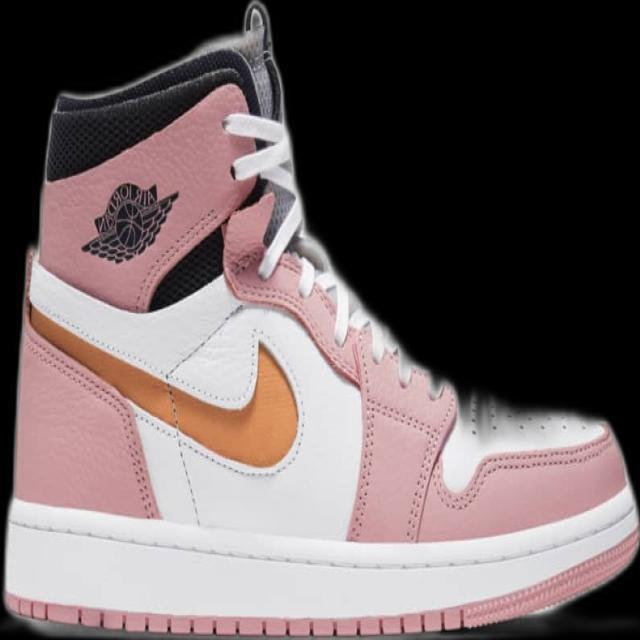J1_InsoleChar: (0, 0, 639, 639)
J1_ShoeLogo: (79, 180, 179, 264)
J1_StitchPattern: (1, 497, 639, 638), (219, 107, 452, 404), (219, 108, 354, 346), (22, 310, 162, 520), (343, 323, 455, 542), (4, 596, 470, 639), (434, 425, 615, 514), (220, 109, 305, 281), (344, 321, 380, 543), (463, 387, 604, 442), (255, 180, 303, 280)
